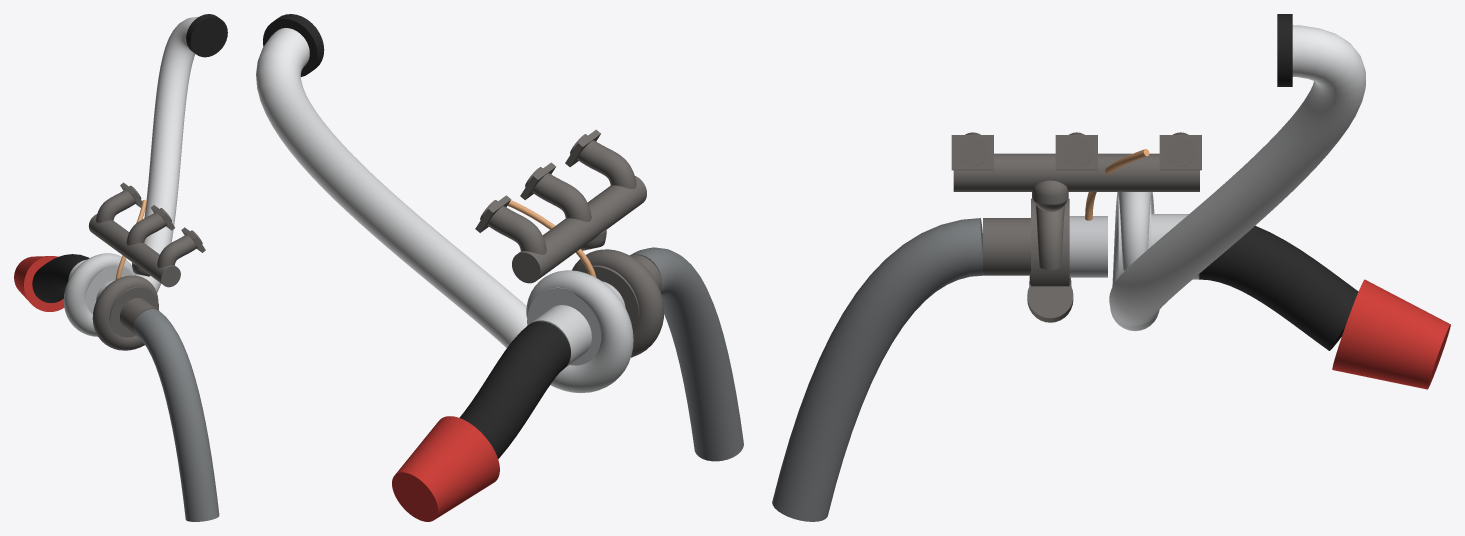
Rendered from exhaust.glb.
3 views of the same model, side by side, from view 1: azimuth 30°, elevation 25°; view 2: azimuth 150°, elevation 25°; view 3: azimuth 270°, elevation 25° (orthographic). The views are drawn at different scales.
Visible parts, largest first — view 1: iron_0, darksteel_1, alu_mach_7, rubber_5, alu_cast_4, red_6; view 2: alu_mach_7, iron_0, darksteel_1, alu_cast_4, rubber_5, red_6, copper_3; view 3: darksteel_1, alu_mach_7, iron_0, rubber_5, red_6, alu_cast_4, steel_2.
Boxes of the visible parts, x1=… form: iron_0: x1=89, y1=182, x2=205, y2=350; darksteel_1: x1=134, y1=309, x2=219, y2=521; alu_mach_7: x1=136, y1=16, x2=198, y2=292; rubber_5: x1=32, y1=14, x2=227, y2=302; alu_cast_4: x1=63, y1=253, x2=135, y2=336; red_6: x1=14, y1=256, x2=64, y2=311; alu_mach_7: x1=256, y1=28, x2=527, y2=347; iron_0: x1=475, y1=129, x2=664, y2=357; darksteel_1: x1=630, y1=247, x2=743, y2=461; alu_cast_4: x1=526, y1=270, x2=633, y2=392; rubber_5: x1=263, y1=14, x2=570, y2=459; red_6: x1=392, y1=416, x2=499, y2=521; copper_3: x1=507, y1=200, x2=596, y2=277; darksteel_1: x1=772, y1=218, x2=984, y2=521; alu_mach_7: x1=1109, y1=25, x2=1365, y2=325; iron_0: x1=951, y1=132, x2=1201, y2=322; rubber_5: x1=1198, y1=14, x2=1358, y2=350; red_6: x1=1332, y1=279, x2=1450, y2=389; alu_cast_4: x1=1110, y1=192, x2=1199, y2=330; steel_2: x1=1069, y1=216, x2=1107, y2=277.
Size of the model in its own units: 0.4169 by 0.7099 by 0.7055.
